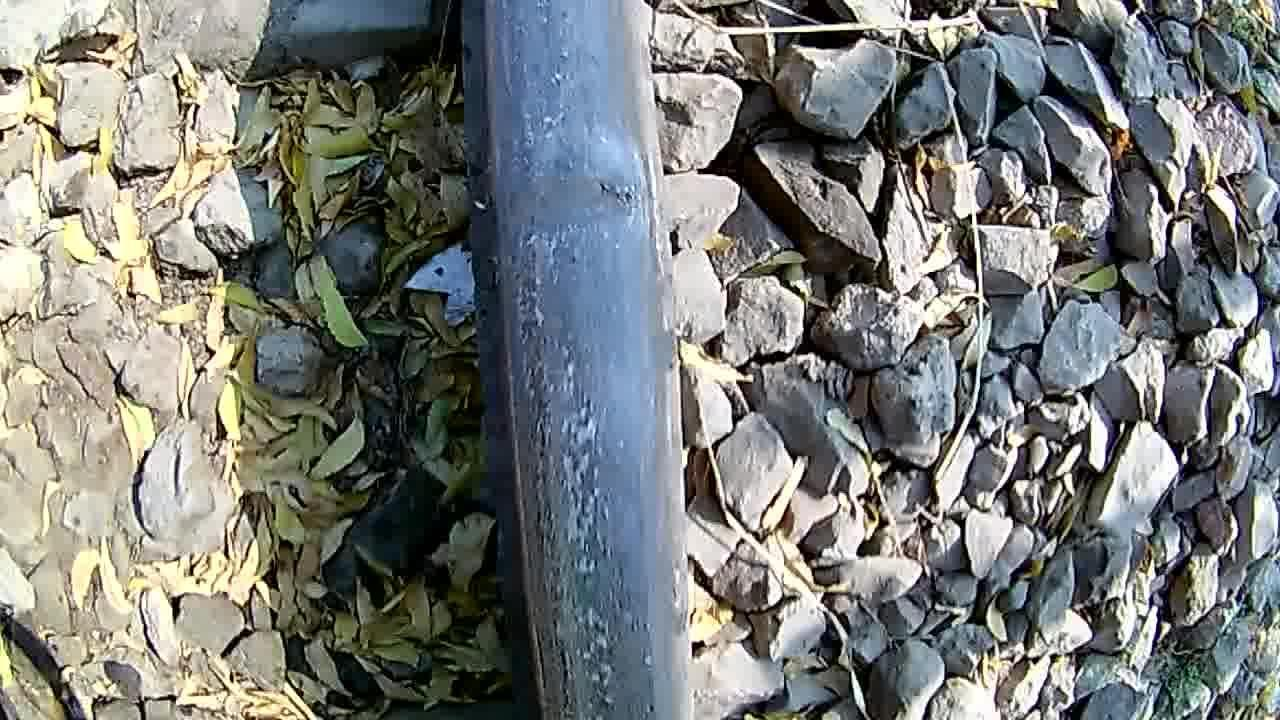crack: (487, 89, 646, 379)
